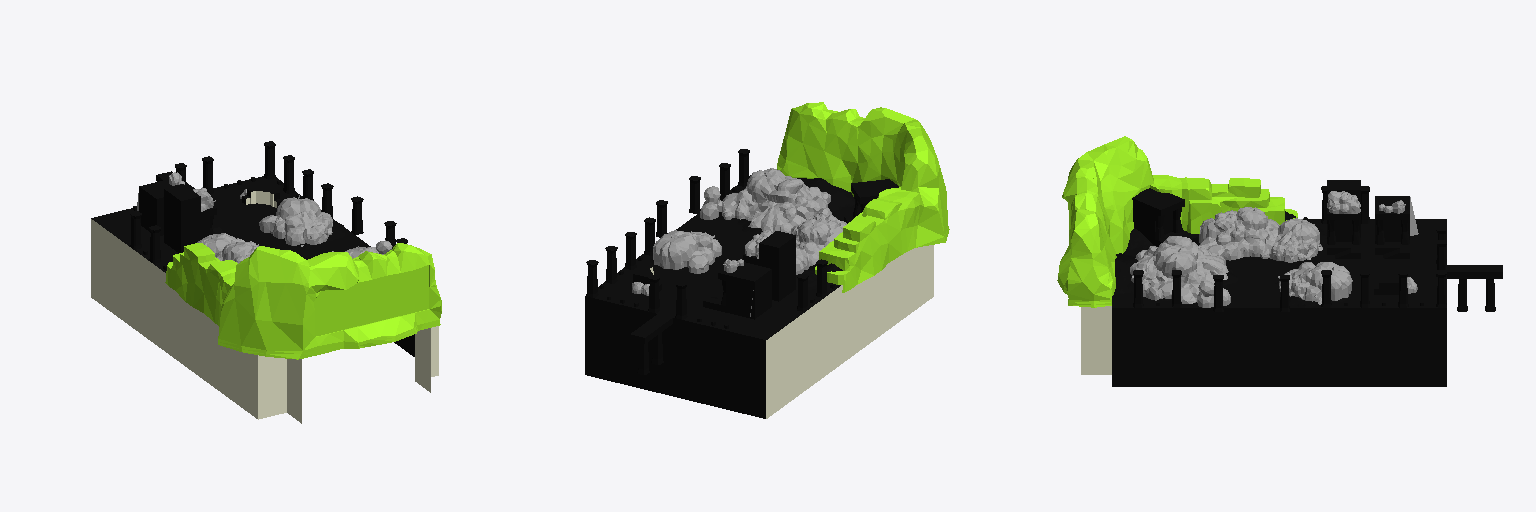
The model's file is LavaWorldHomeTown000.obj.obj.
3 views of the same model, side by side, from view 1: azimuth 30°, elevation 25°; view 2: azimuth 150°, elevation 25°; view 3: azimuth 270°, elevation 25° (orthographic).
Size of the model in its own units: 7175 by 5210 by 12775.